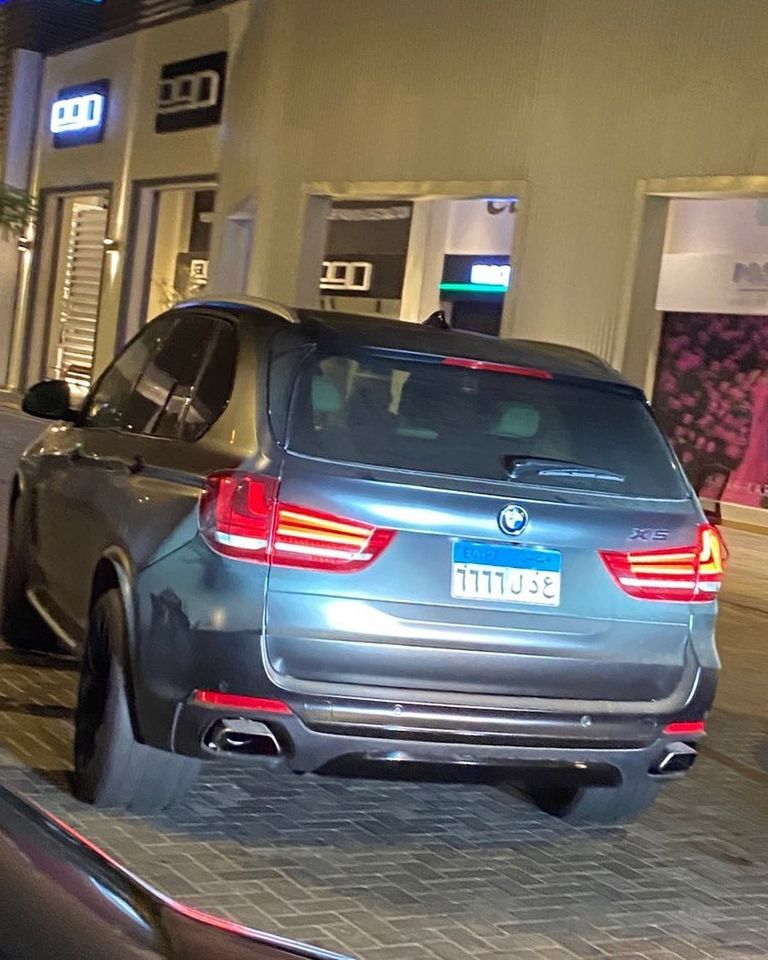carpl: (439, 557, 566, 604)
